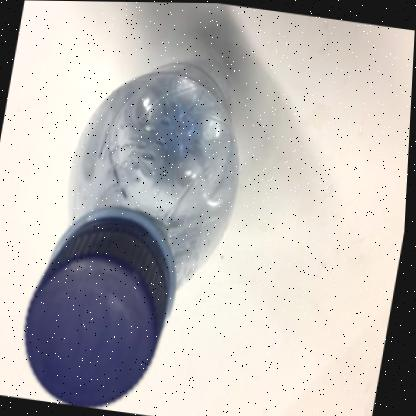Plastic: (27, 62, 240, 406)
